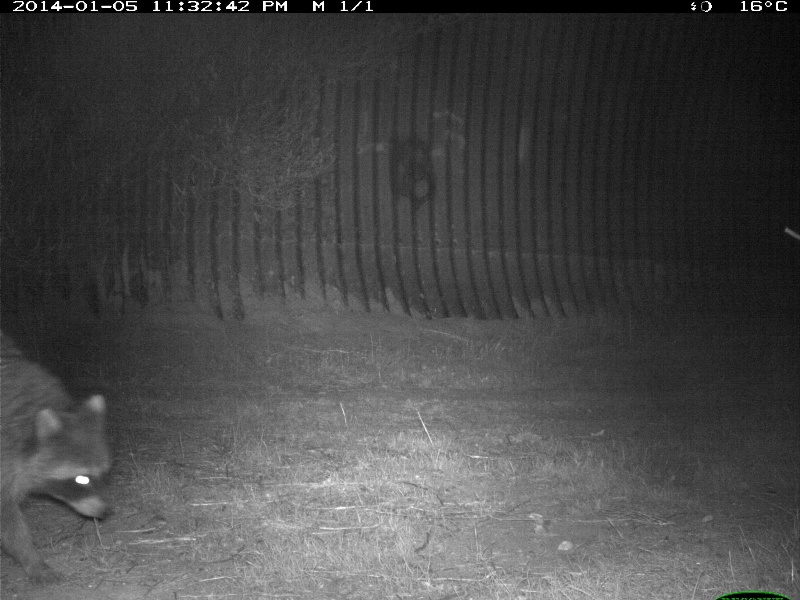raccoon: (1, 321, 115, 585)
